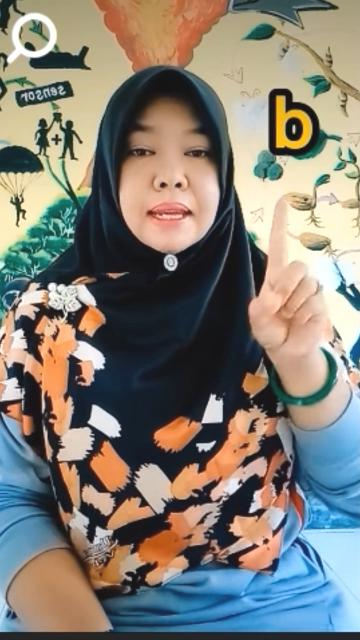D: (249, 194, 333, 366)
